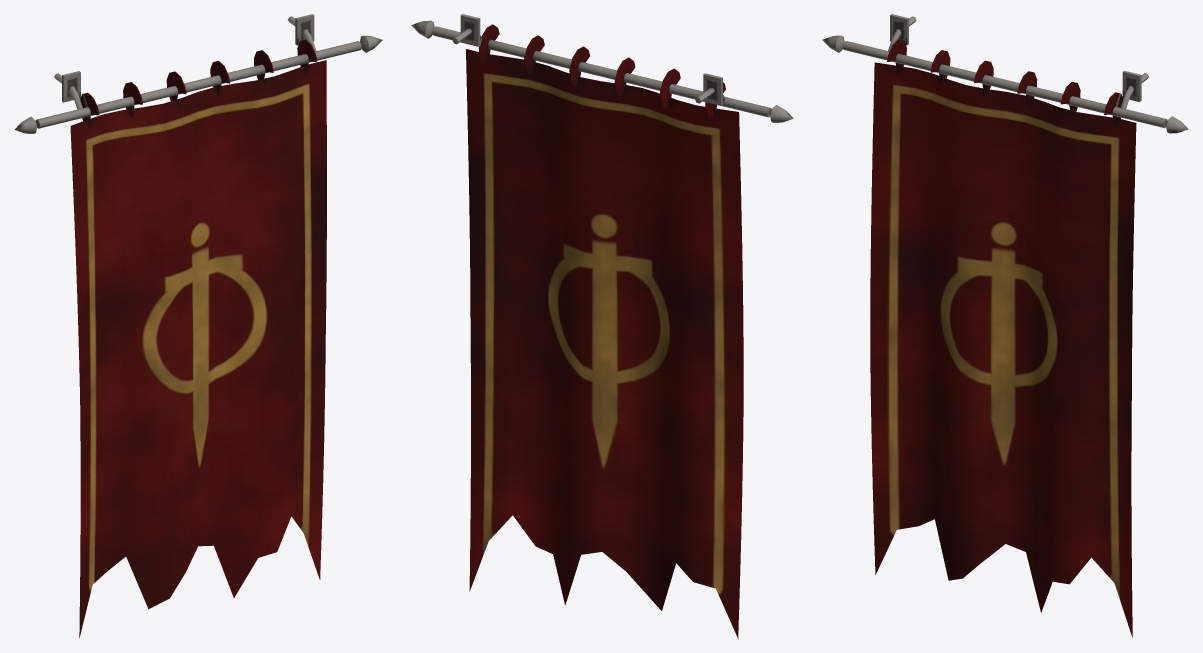
The model's file is banner.glb.
3 renders of one model, left to right at view 1: azimuth 30°, elevation 25°; view 2: azimuth 150°, elevation 25°; view 3: azimuth 330°, elevation 25°, orthographic. The views are drawn at different scales.
Visible parts, largest first — view 1: banner; view 2: banner; view 3: banner.
Boxes of the visible parts, x1=… form: banner: x1=14, y1=14, x2=382, y2=638; banner: x1=411, y1=14, x2=793, y2=638; banner: x1=822, y1=14, x2=1188, y2=637.
Bounding box in the file's own units: 1.42 × 2.07 × 0.2299.
Materials: 1 (1 with a texture image).
